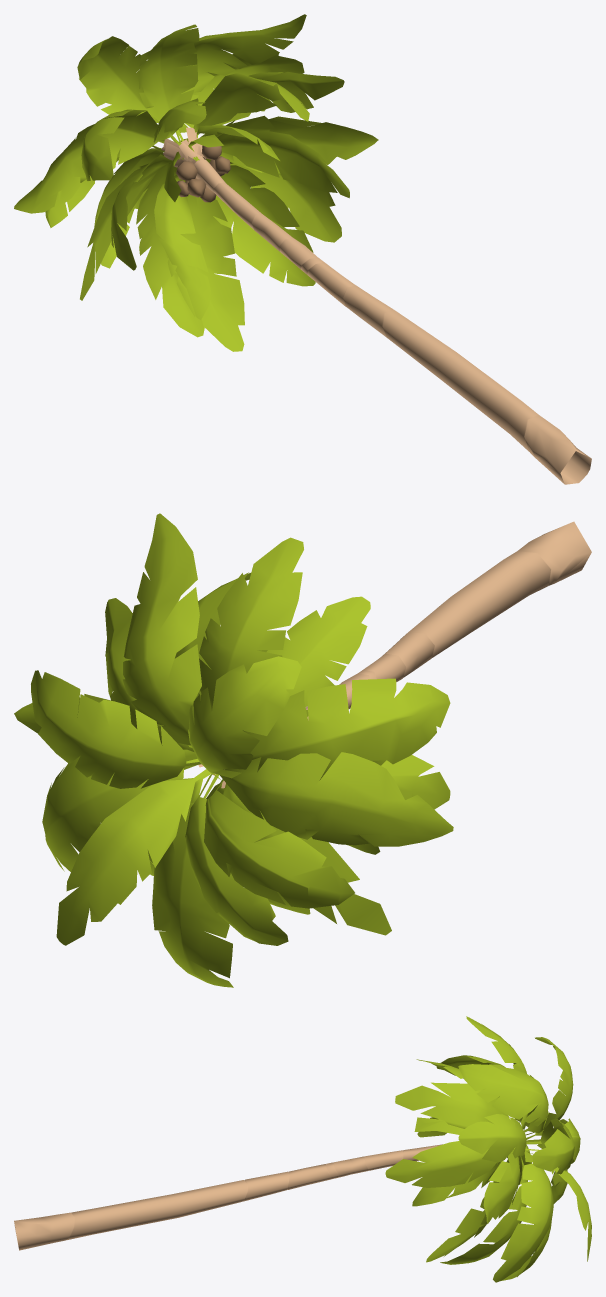
The model's file is COCONUT_TREE_PRIM.fbx.
The picture shows the model from 3 angles, top to bottom: view 1: azimuth 30°, elevation 25°; view 2: azimuth 150°, elevation 25°; view 3: azimuth 270°, elevation 25°; orthographic projection. The views are drawn at different scales.
Parts seen in each view (by area): view 1: COCO_TREE_PRIM; view 2: COCO_TREE_PRIM; view 3: COCO_TREE_PRIM.
Boxes of the visible parts, x1=… form: COCO_TREE_PRIM: x1=14, y1=14, x2=591, y2=484; COCO_TREE_PRIM: x1=14, y1=513, x2=591, y2=987; COCO_TREE_PRIM: x1=14, y1=1016, x2=591, y2=1282.
Size of the model in its own units: 10.46 by 9.51 by 19.76.
